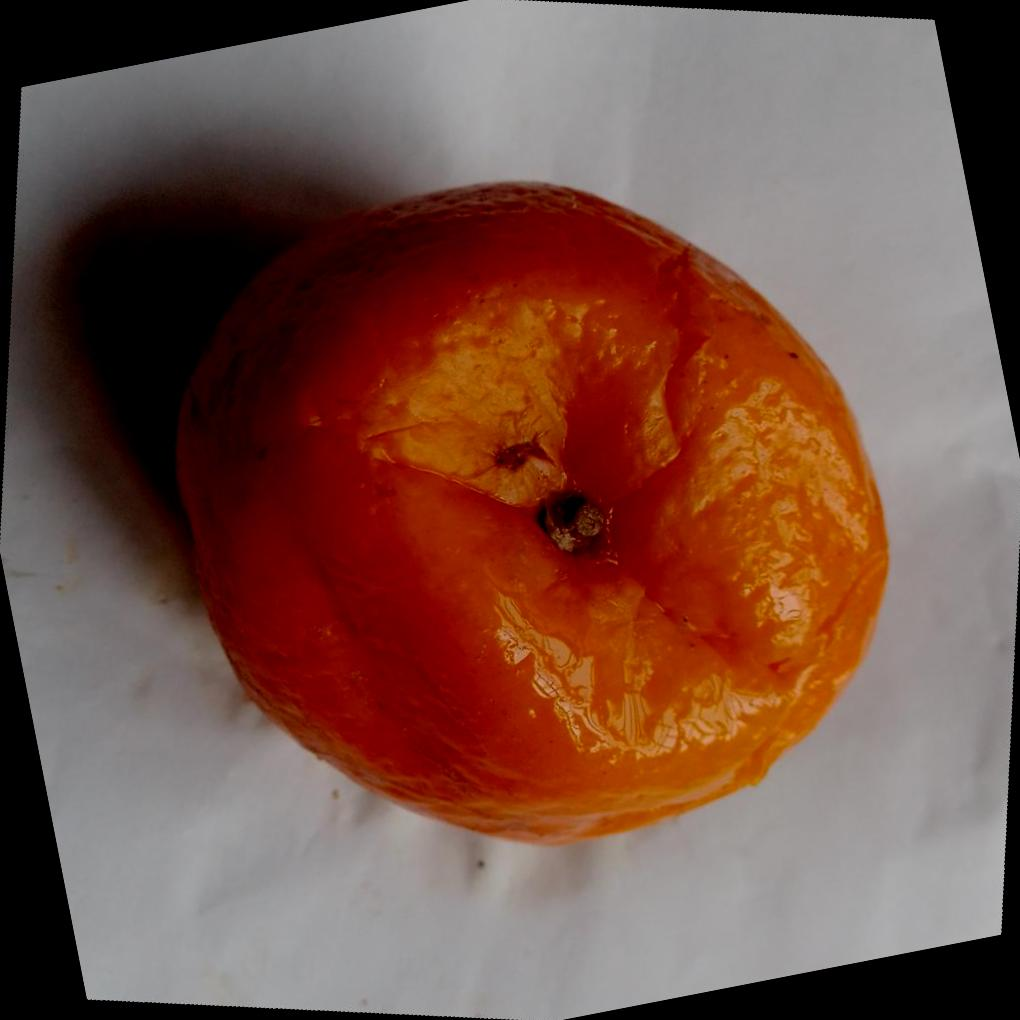FreshOrange: (170, 175, 890, 844)
